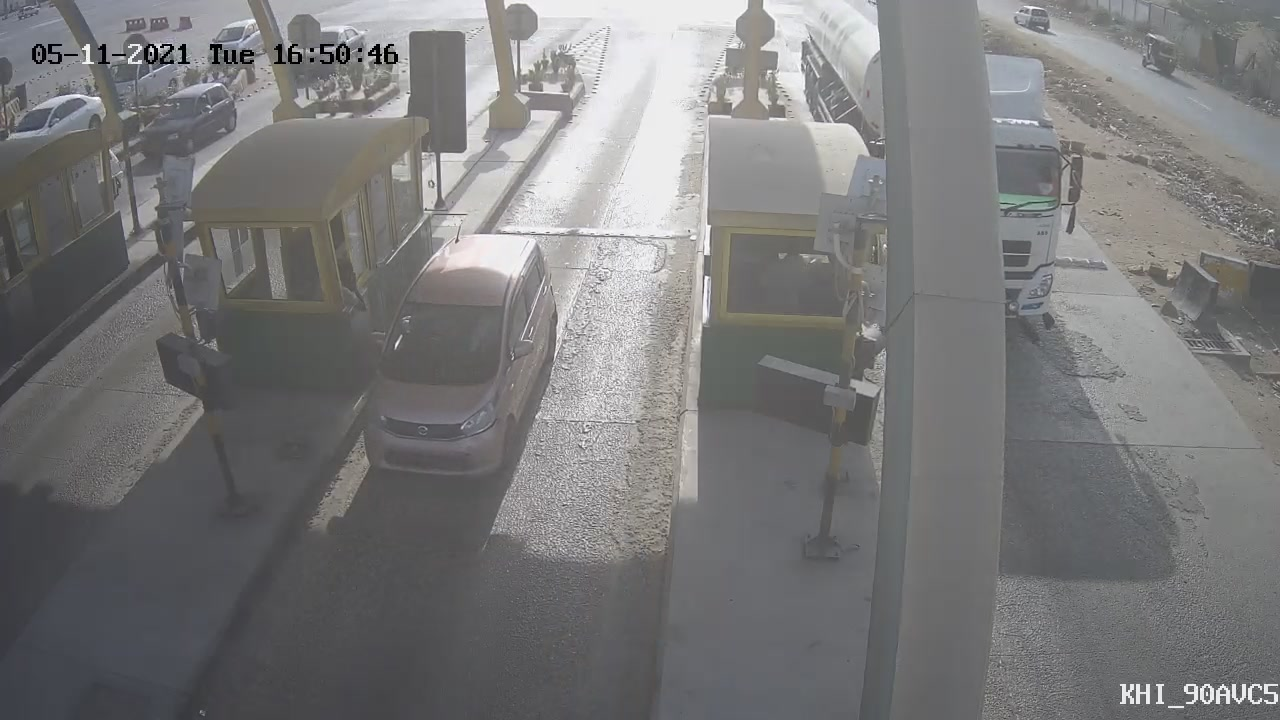F1: (338, 212, 576, 508)
